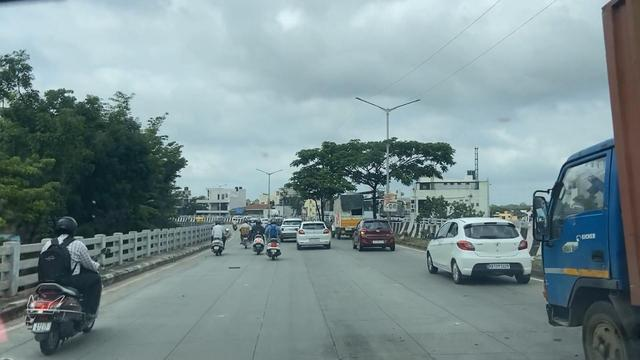LMV: (39, 216, 102, 344), (447, 218, 526, 280), (359, 213, 395, 252), (300, 217, 335, 247), (270, 217, 285, 262), (254, 219, 268, 256), (215, 218, 227, 257)
